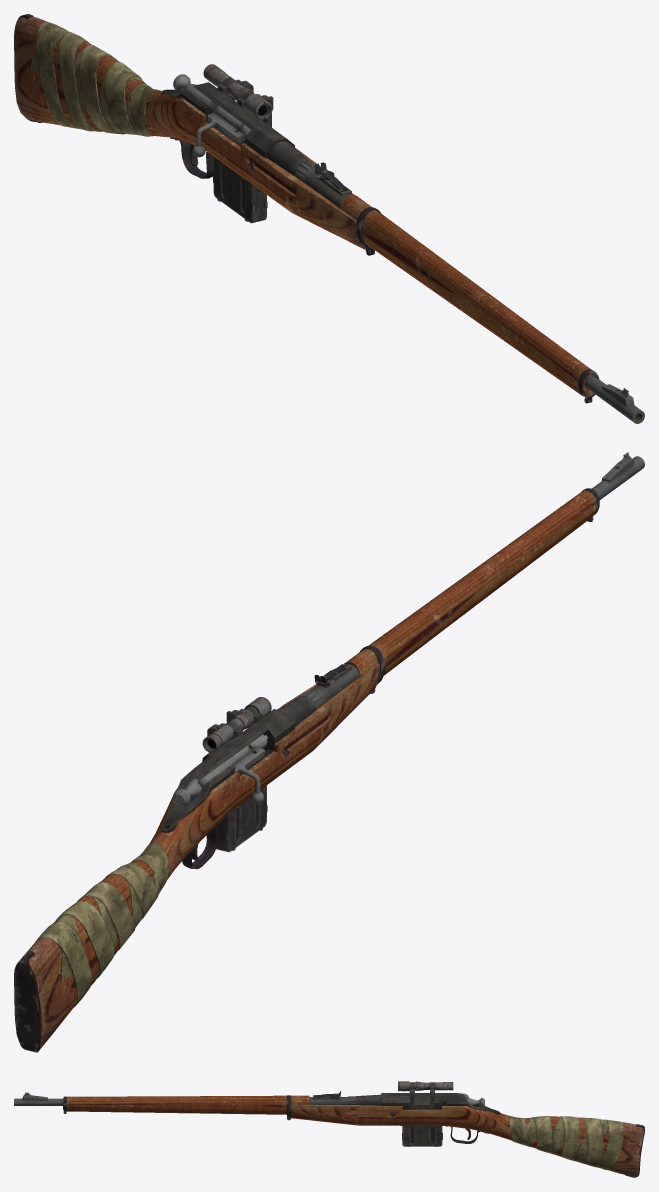
File: mosin.glb
3 views of the same model, one above another, from view 1: azimuth 30°, elevation 25°; view 2: azimuth 150°, elevation 25°; view 3: azimuth 270°, elevation 25° (orthographic). The views are drawn at different scales.
Parts seen in each view (by area): view 1: body_2, body_1, body_0, bolt_4; view 2: body_2, body_1, body_0, bolt_4; view 3: body_2, body_1, body_0.
Part boxes in pixels (<box>): body_2: <box>14,14,644,423</box>; body_1: <box>31,22,160,136</box>; body_0: <box>203,64,273,127</box>; bolt_4: <box>192,105,250,157</box>; body_2: <box>14,452,644,1052</box>; body_1: <box>35,843,168,1007</box>; body_0: <box>202,697,271,752</box>; bolt_4: <box>229,734,267,803</box>; body_2: <box>14,1091,644,1177</box>; body_1: <box>509,1115,623,1169</box>; body_0: <box>398,1081,453,1109</box>.
Bounding box in the file's own units: 6.66 × 20.45 × 123.
Materials: 3 (3 with a texture image).
